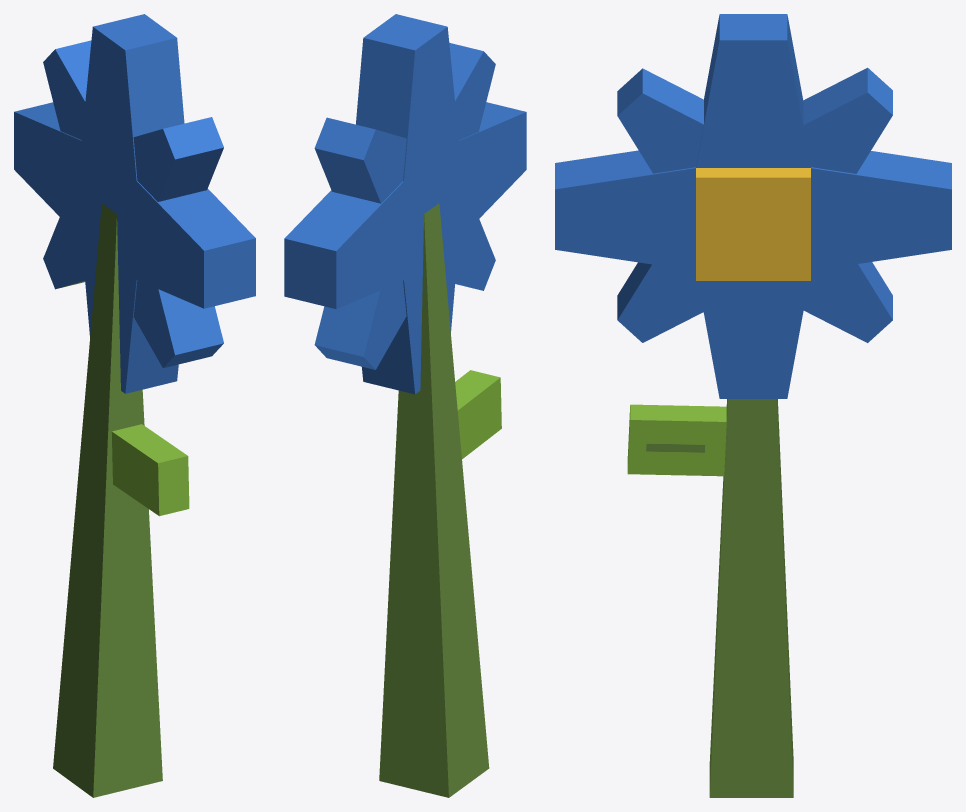
The model's file is fleur3.glb.
The picture shows the model from 3 angles, left to right: view 1: azimuth 30°, elevation 25°; view 2: azimuth 150°, elevation 25°; view 3: azimuth 270°, elevation 25°; orthographic projection. The views are drawn at different scales.
Parts seen in each view (by area): view 1: Cube; view 2: Cube; view 3: Cube.
Part boxes in pixels (x1,y1,x2,y2): Cube: (14, 14, 255, 797); Cube: (284, 14, 526, 797); Cube: (555, 14, 951, 797).
Bounding box in the file's own units: 0.1545 × 1.01 × 0.4723.
Materials: 1 (1 with a texture image).
